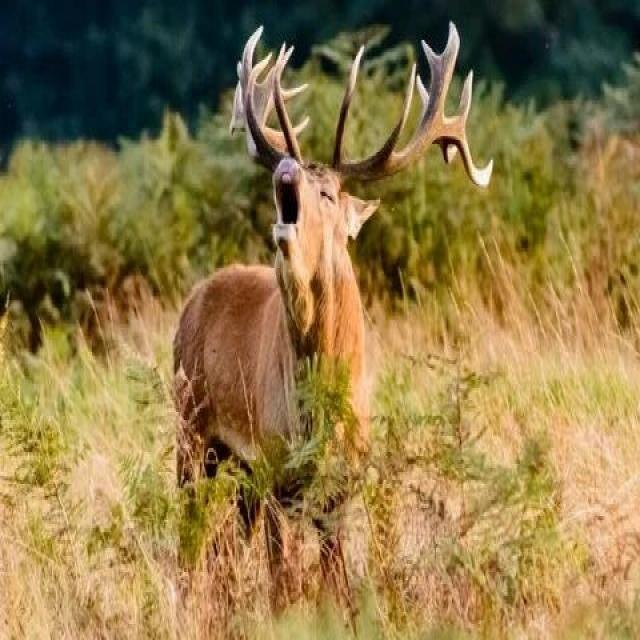deer: (164, 47, 457, 574)
